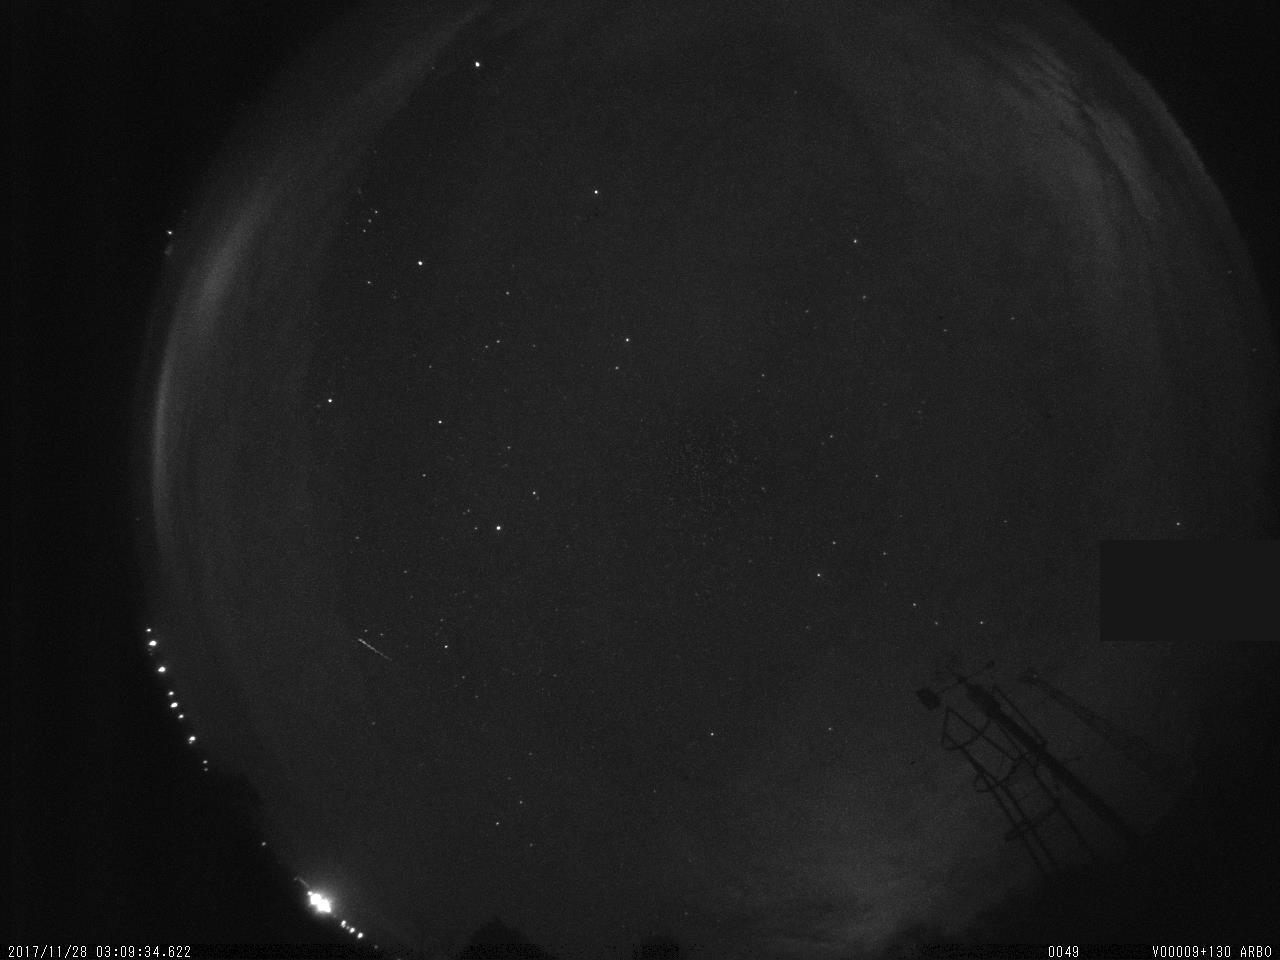meteor: (340, 624, 401, 668)
